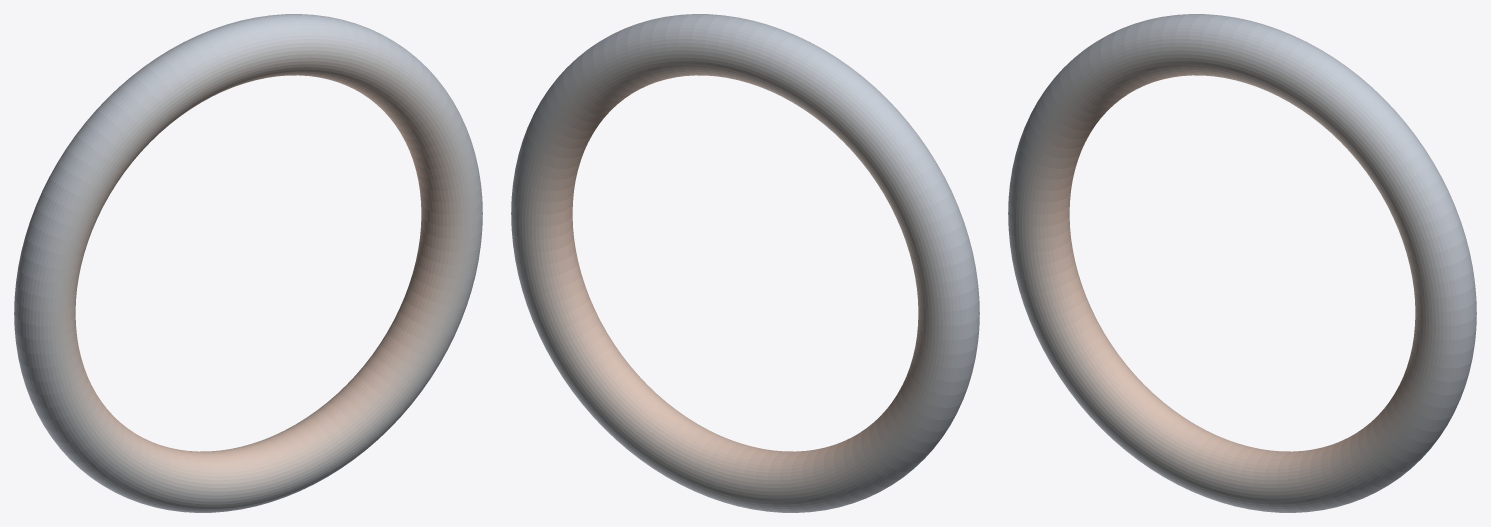
The picture shows the model from 3 angles, left to right: view 1: azimuth 30°, elevation 25°; view 2: azimuth 150°, elevation 25°; view 3: azimuth 330°, elevation 25°; orthographic projection.
Visible parts, largest first — view 1: world; view 2: world; view 3: world.
Part boxes in pixels (<box>): world: <box>14,14,482,512</box>; world: <box>511,14,979,512</box>; world: <box>1008,14,1476,512</box>.
Bounding box in the file's own units: 19.6 × 19.6 × 2.26.
